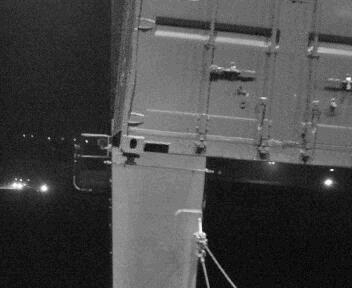twist_lock_1: (112, 150, 145, 174)
